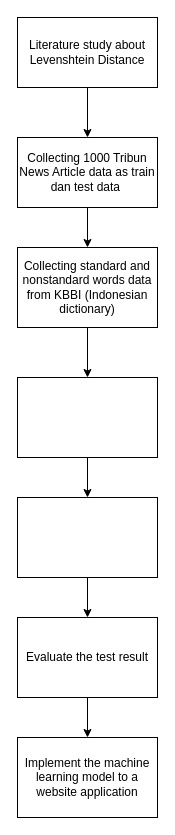
Image size: 175x835. Some labels were removed from this diagram. Here are the shapes that lost their labels. From the top down, the centre of each, then its label:
(x=87, y=417): Creating the machine learning model using Levenshtein Distance Algorithm
(x=87, y=537): Training and testing the data to the machine learning model
